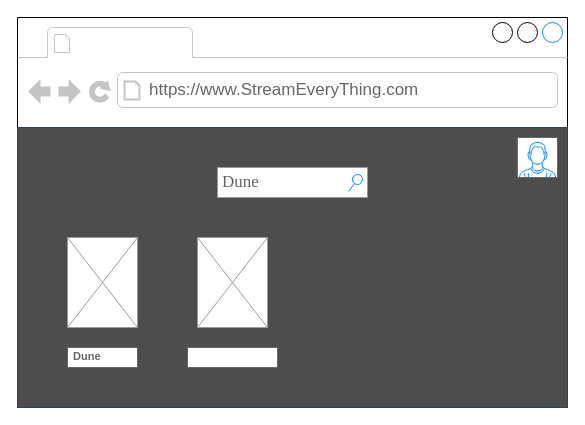
Image size: 585x425. Some labels were removed from this diagram. The centre of each missing label's shape, as x and y in pixels:
Dune - Part two: [232,357]
HomePage: [132,42]
